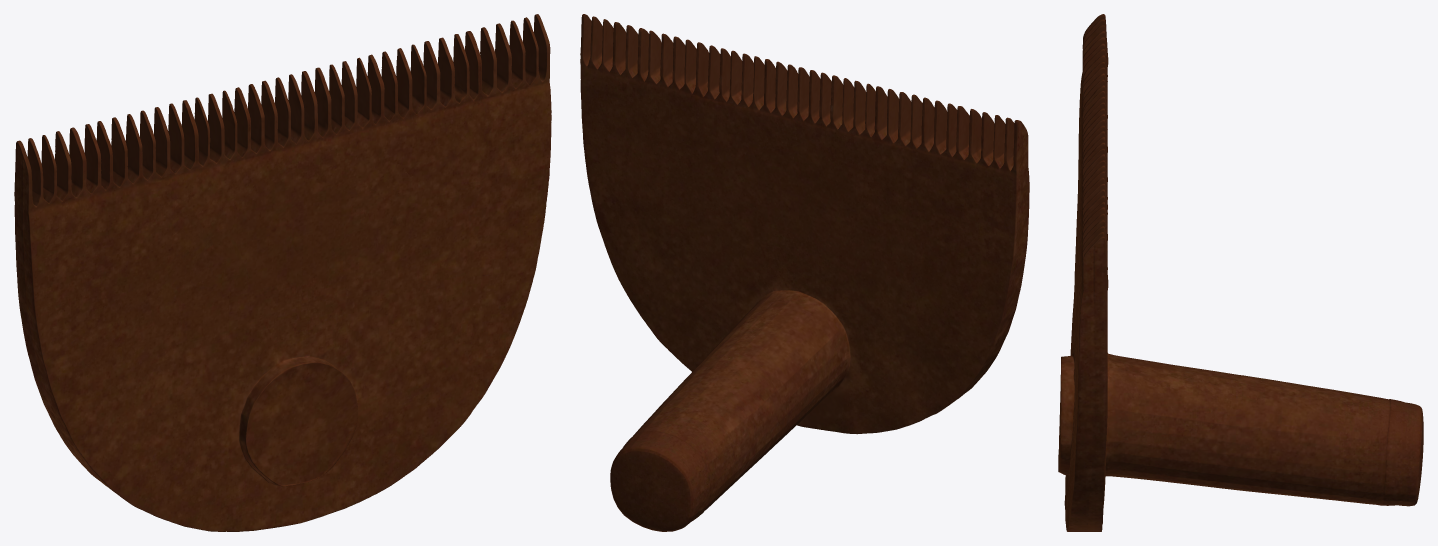
The model's file is cesalj.glb.
The picture shows the model from 3 angles, left to right: view 1: azimuth 30°, elevation 25°; view 2: azimuth 150°, elevation 25°; view 3: azimuth 270°, elevation 25°; orthographic projection. The views are drawn at different scales.
Size of the model in its own units: 1.9 by 1.5 by 1.31.
Materials: 1 (1 with a texture image).
